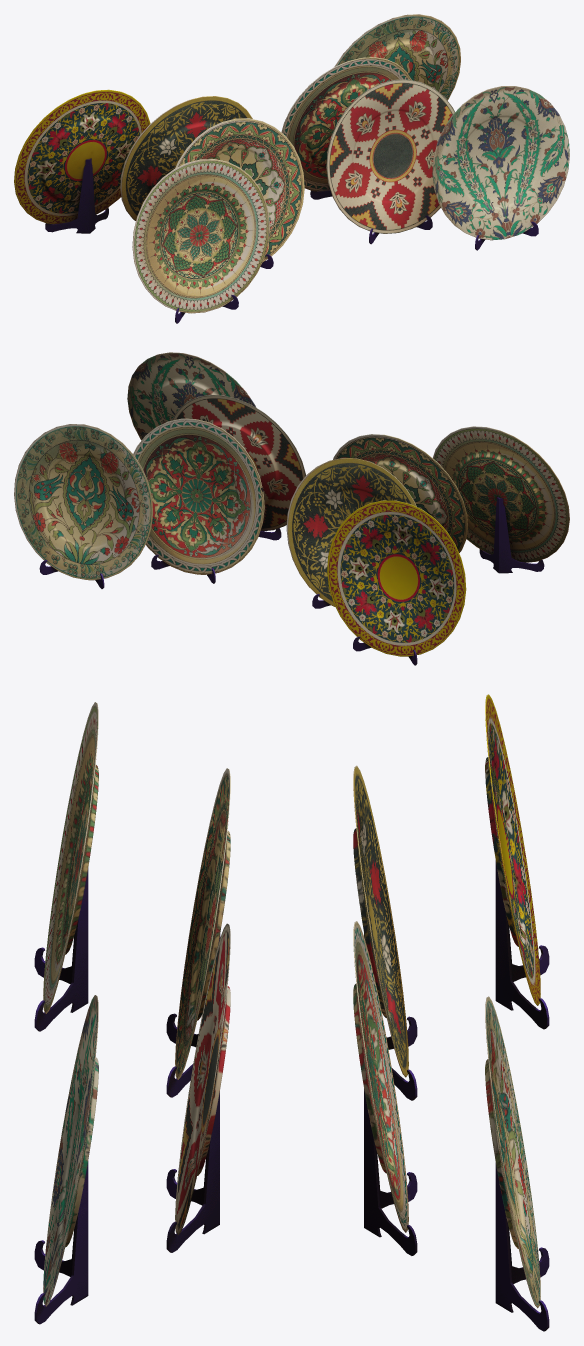
The model's file is Museum_Displaytable_Props_04.FBX.
3 views of the same model, one above another, from view 1: azimuth 30°, elevation 25°; view 2: azimuth 150°, elevation 25°; view 3: azimuth 270°, elevation 25° (orthographic). The views are drawn at different scales.
Parts seen in each view (by area): view 1: Museum_Displaytable_Props_04; view 2: Museum_Displaytable_Props_04; view 3: Museum_Displaytable_Props_04.
Part boxes in pixels (<box>): Museum_Displaytable_Props_04: <box>14,14,569,323</box>; Museum_Displaytable_Props_04: <box>14,352,569,665</box>; Museum_Displaytable_Props_04: <box>34,694,549,1331</box>.
Size of the model in its own units: 911 by 282 by 455.
1 material, 1 textured.
